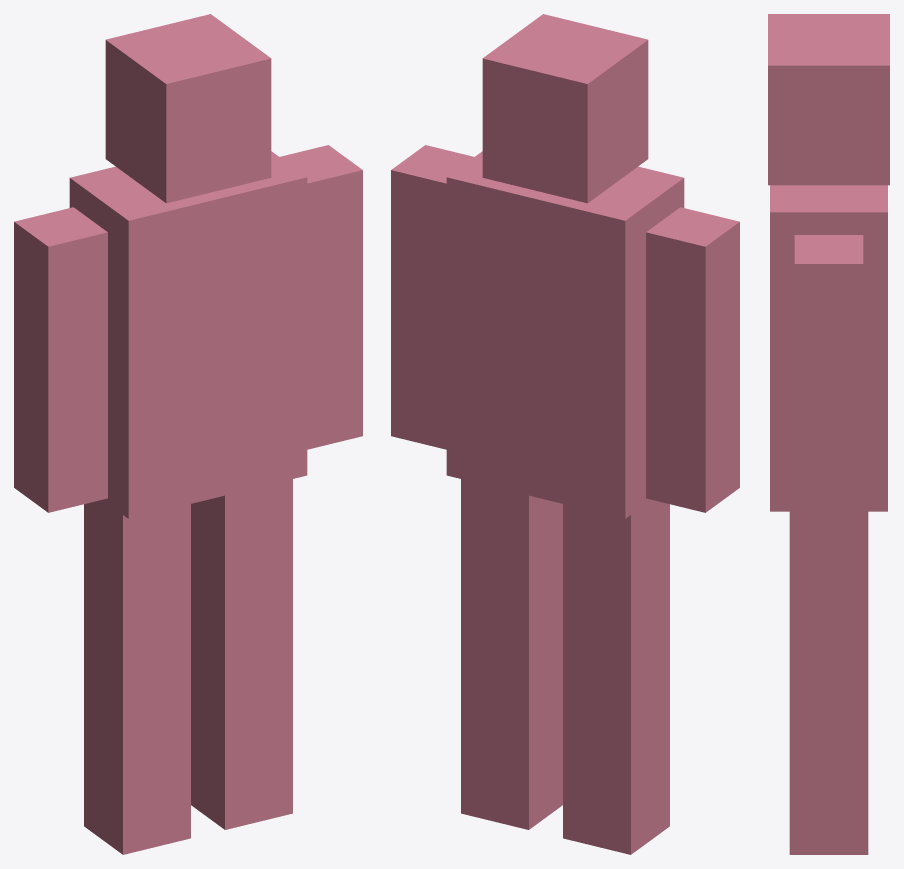
Rendered from bard.glb.
3 views of the same model, side by side, from view 1: azimuth 30°, elevation 25°; view 2: azimuth 150°, elevation 25°; view 3: azimuth 270°, elevation 25° (orthographic).
Parts seen in each view (by area): view 1: bard; view 2: bard; view 3: bard.
Part boxes in pixels (left/top/right/bottom): bard: left=14, top=14, right=362, bottom=854; bard: left=391, top=14, right=739, bottom=854; bard: left=768, top=14, right=889, bottom=854.
Bounding box in the file's own units: 0.703 × 1.65 × 0.2352.
